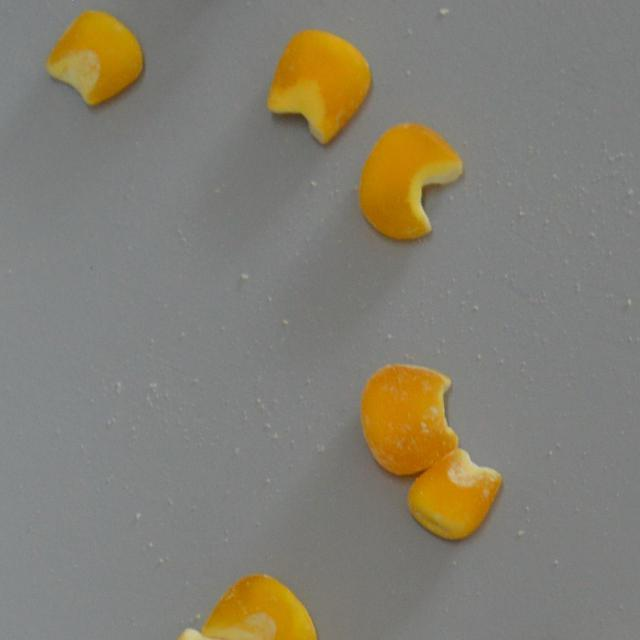dañado: (354, 356, 466, 480), (199, 567, 322, 640), (134, 624, 246, 640)
no_canjicado: (354, 118, 468, 248), (261, 24, 374, 148), (41, 7, 150, 114)
pelicula: (404, 446, 504, 544)
